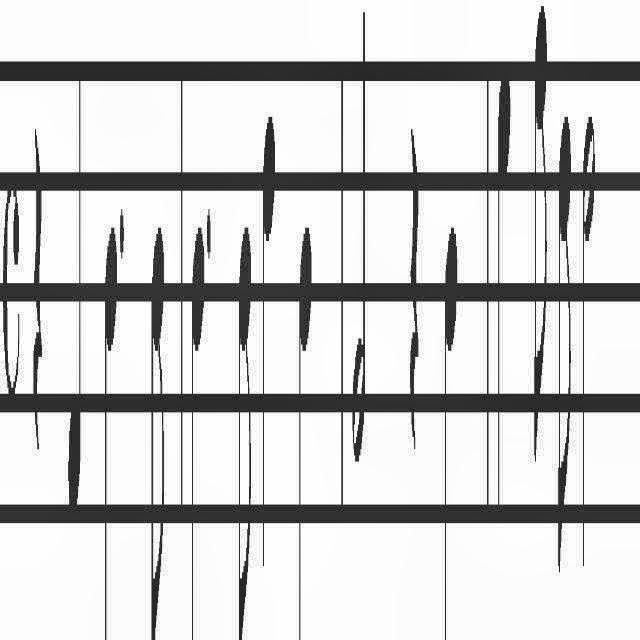Eighth-note: (533, 0, 550, 484), (556, 108, 572, 584), (236, 203, 253, 640), (150, 208, 166, 640)
Half-note: (352, 0, 368, 472), (580, 103, 596, 572)
Quarter-note: (68, 58, 84, 534), (261, 103, 277, 572), (188, 220, 205, 640), (297, 215, 313, 640), (442, 215, 458, 640), (497, 58, 511, 526), (103, 215, 117, 640)
Quarter-rest: (408, 119, 420, 458), (32, 130, 44, 466)
